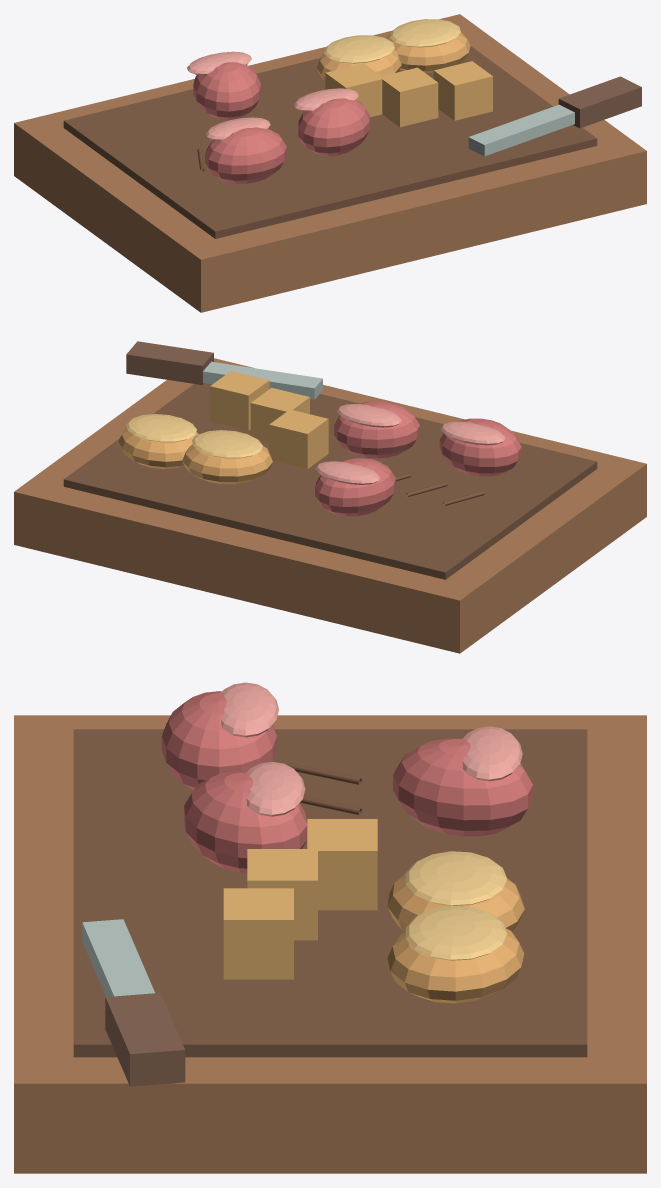
File: sliced_fruit.glb
3 views of the same model, one above another, from view 1: azimuth 30°, elevation 25°; view 2: azimuth 150°, elevation 25°; view 3: azimuth 270°, elevation 25° (orthographic). The views are drawn at different scales.
Parts seen in each view (by area): view 1: fruit_rounded_board_body, fruit_rounded_board_inset, halved_berry_0, halved_berry_1, halved_berry_2, mango_cube_0, mango_cube_1, fruit_knife_handle, fruit_knife_blade, citrus_wedge_rind_1, mango_cube_2, citrus_wedge_pulp_1 (+5 smaller); view 2: fruit_rounded_board_body, fruit_rounded_board_inset, halved_berry_1, mango_cube_2, halved_berry_2, halved_berry_0, fruit_knife_handle, mango_cube_1, citrus_wedge_rind_0, fruit_knife_blade, citrus_wedge_rind_1, mango_cube_0 (+5 smaller); view 3: fruit_rounded_board_body, fruit_rounded_board_inset, halved_berry_2, halved_berry_1, halved_berry_0, mango_cube_1, fruit_knife_handle, citrus_wedge_rind_1, mango_cube_2, citrus_wedge_pulp_1, citrus_wedge_pulp_0, mango_cube_0 (+5 smaller).
Part boxes in pixels (x1,y1,x2,y2): fruit_rounded_board_body: (14,14,646,312); fruit_rounded_board_inset: (63,46,597,238); halved_berry_0: (205,127,286,183); halved_berry_1: (298,98,369,155); halved_berry_2: (193,62,261,119); mango_cube_0: (379,67,438,127); mango_cube_1: (433,61,492,120); fruit_knife_handle: (558,76,641,128); fruit_knife_blade: (468,104,574,156); citrus_wedge_rind_1: (386,32,470,73); mango_cube_2: (325,63,382,117); citrus_wedge_pulp_1: (390,19,460,47); fruit_rounded_board_body: (14,358,646,653); fruit_rounded_board_inset: (63,383,597,579); halved_berry_1: (334,401,419,458); mango_cube_2: (269,410,328,468); halved_berry_2: (315,458,395,516); halved_berry_0: (439,418,521,476); fruit_knife_handle: (126,341,213,384); mango_cube_1: (210,371,269,430); citrus_wedge_rind_0: (182,444,272,484); fruit_knife_blade: (203,361,322,399); citrus_wedge_rind_1: (118,427,198,469); mango_cube_0: (250,387,309,442); fruit_rounded_board_body: (14,715,646,1173); fruit_rounded_board_inset: (73,729,587,1057); halved_berry_2: (393,738,532,836); halved_berry_1: (184,771,307,873); halved_berry_0: (161,691,276,790); mango_cube_1: (223,888,293,979); fruit_knife_handle: (105,993,185,1086); citrus_wedge_rind_1: (387,928,524,1003); mango_cube_2: (307,819,377,910); citrus_wedge_pulp_1: (405,905,506,960); citrus_wedge_pulp_0: (405,851,507,905); mango_cube_0: (247,849,317,940).
Bounding box in the file's own units: 0.7778 × 0.1775 × 0.53.
